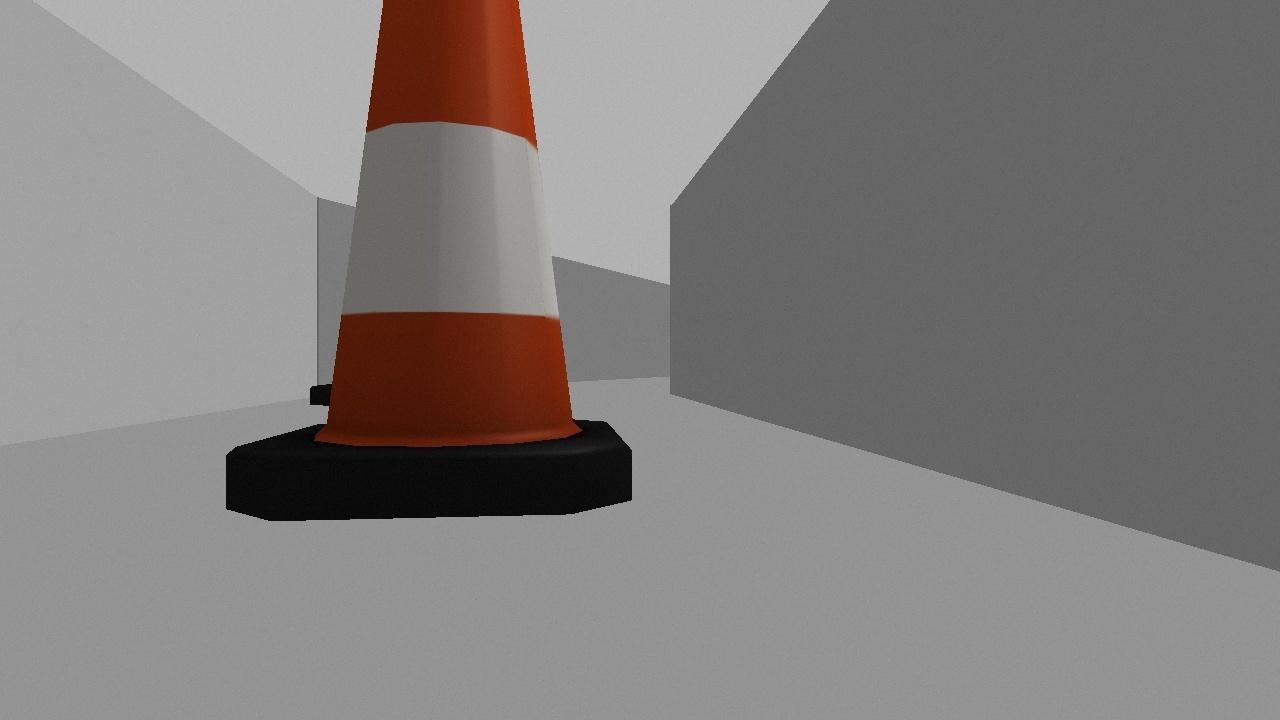cone_barrel: (220, 0, 633, 520)
